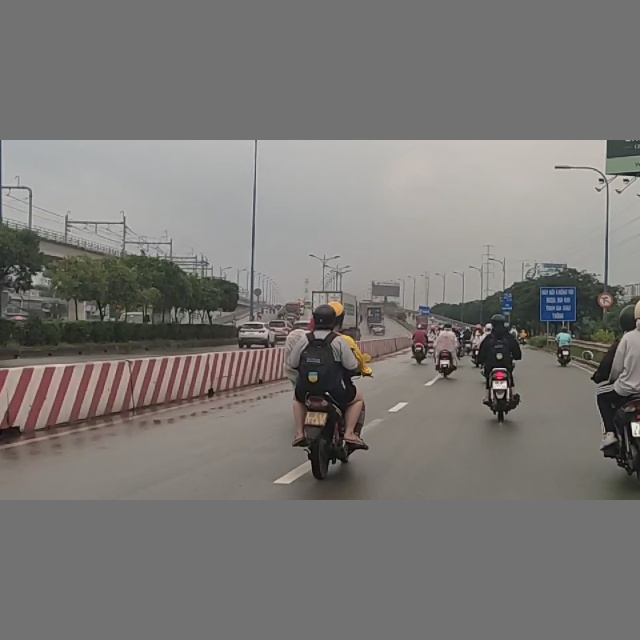P.123b: (598, 291, 613, 308)
